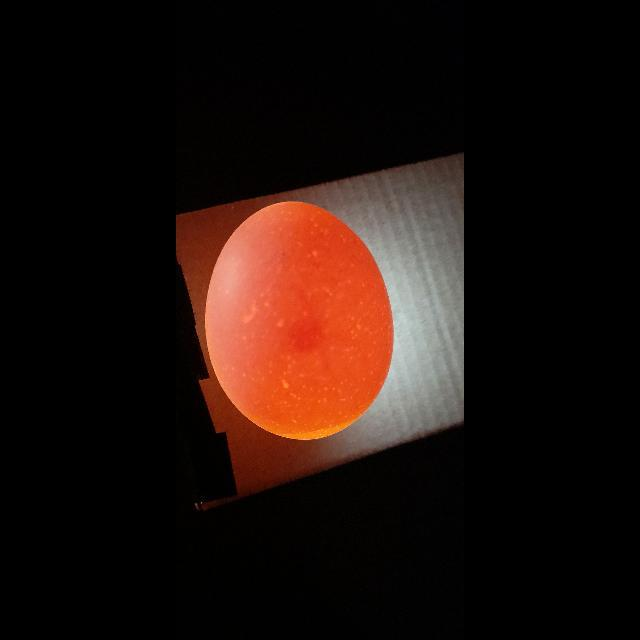Fertile: (207, 204, 397, 438)
